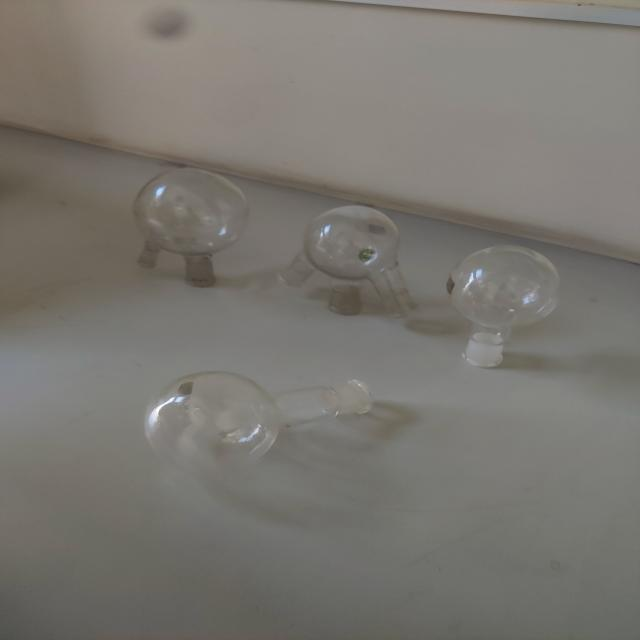Round_Bottom_Flask_Borosilicate_Glass_1_Neck: (118, 354, 411, 485), (417, 210, 582, 391)
Round_Bottom_Flask_Borosilicate_Glass_2_Neck: (116, 135, 268, 299)
Round_Bottom_Flask_Borosilicate_Glass_3_Neck: (270, 160, 436, 339)
